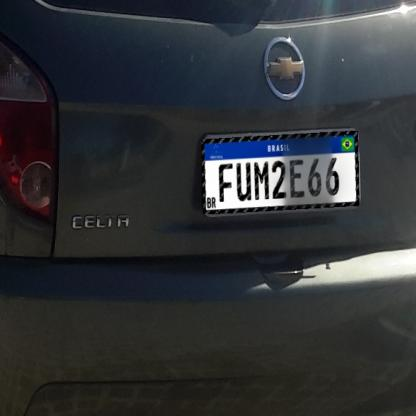PlacaM: (202, 131, 360, 214)
